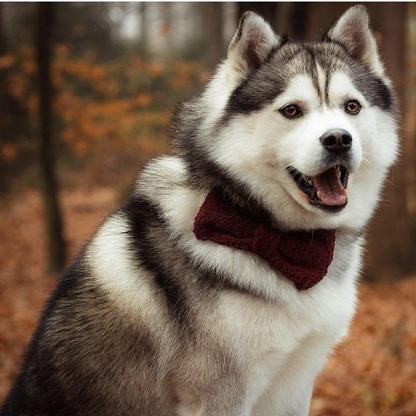husky: (1, 1, 407, 416)
